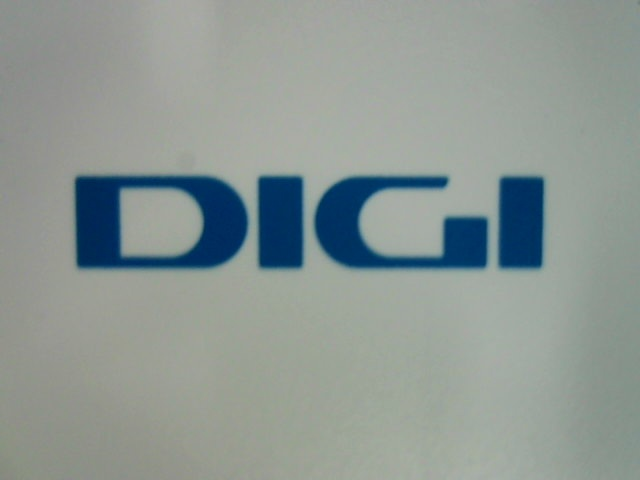BL_DIGI: (56, 155, 559, 274)
